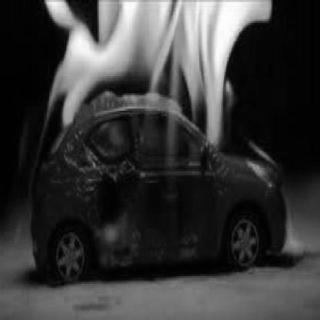Fire: (27, 0, 284, 191)
